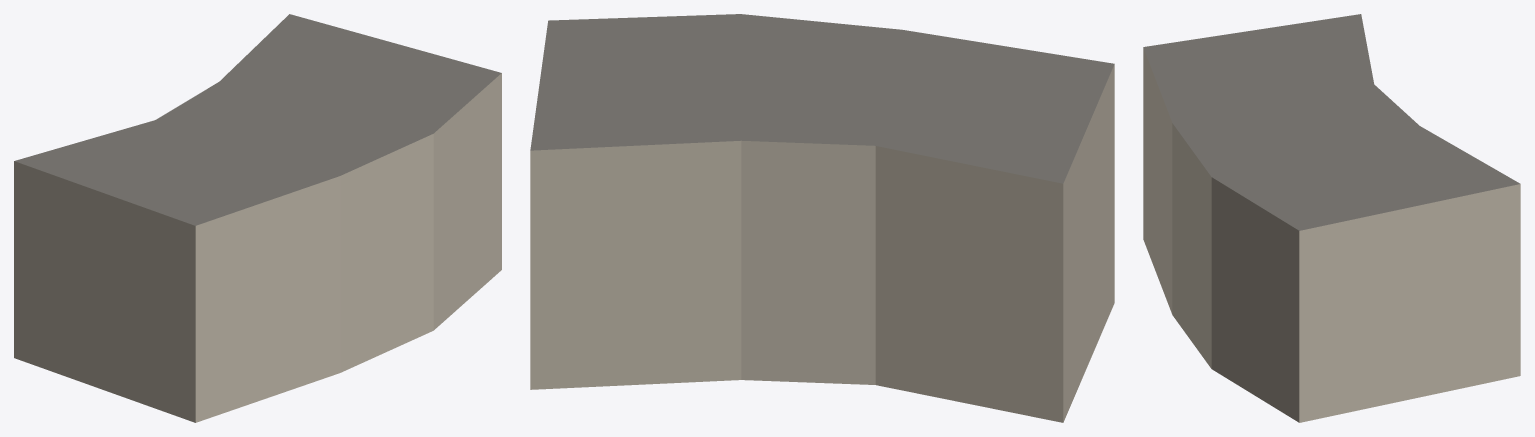
The picture shows the model from 3 angles, left to right: view 1: azimuth 30°, elevation 25°; view 2: azimuth 150°, elevation 25°; view 3: azimuth 270°, elevation 25°; orthographic projection. The views are drawn at different scales.
Visible parts, largest first — view 1: HP-w1287060494; view 2: HP-w1287060494; view 3: HP-w1287060494.
Part boxes in pixels (x1,y1,x2,y2): HP-w1287060494: (14, 14, 501, 422); HP-w1287060494: (530, 14, 1114, 422); HP-w1287060494: (1143, 14, 1520, 422).
Bounding box in the file's own units: 43.59 × 18 × 32.06.
